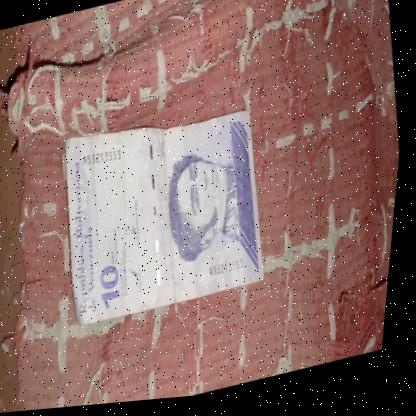ten-front-vef: (106, 57, 337, 292)
